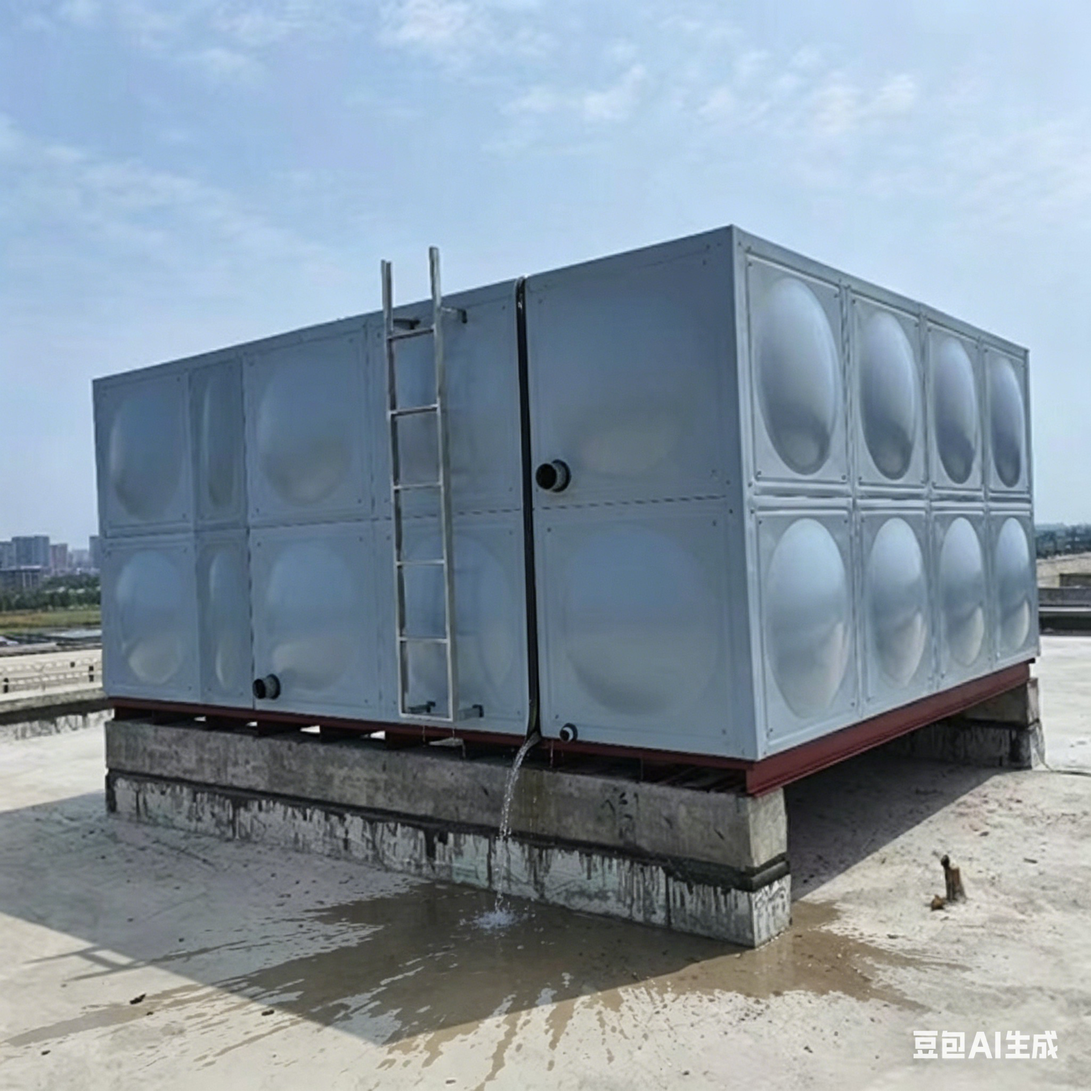Leakage: (485, 720, 582, 1015), (606, 925, 898, 1007), (329, 890, 481, 1009)
